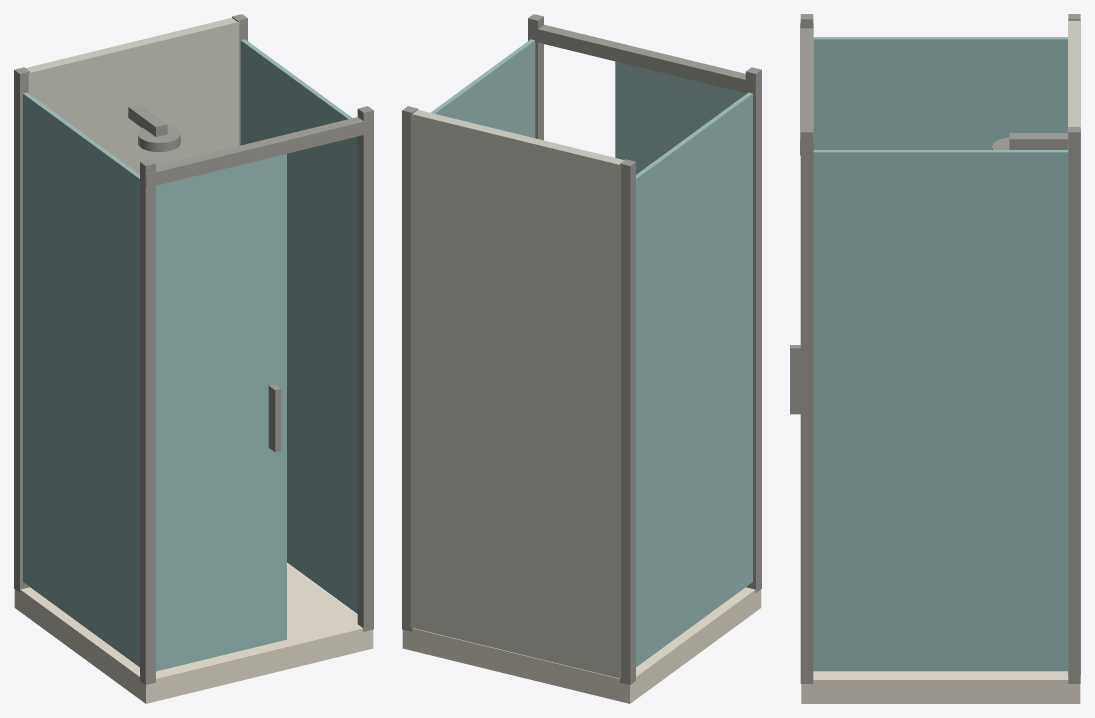
Rendered from shower_stall.glb.
The picture shows the model from 3 angles, left to right: view 1: azimuth 30°, elevation 25°; view 2: azimuth 150°, elevation 25°; view 3: azimuth 270°, elevation 25°; orthographic projection. The views are drawn at different scales.
Parts seen in each view (by area): view 1: Sliding glass, Side glazing, Side glazing.001, Rear panel, Shower tray, Frame upright.002, Frame upright, Frame upright.001, Top track, Pull.002, Shower head, Shower arm; view 2: Rear panel, Side glazing, Shower tray, Sliding glass, Frame upright.001, Side glazing.001, Frame upright, Frame upright.003, Top track, Frame upright.002; view 3: Side glazing.001, Side glazing, Shower tray, Frame upright.002, Frame upright.003, Rear panel, Top track, Shower arm, Pull.002.
Part boxes in pixels (x1,y1,x2,y2): Sliding glass: [156, 154, 286, 671]; Side glazing: [23, 92, 139, 667]; Side glazing.001: [240, 39, 357, 613]; Rear panel: [26, 17, 239, 586]; Shower tray: [14, 563, 373, 703]; Frame upright.002: [357, 106, 373, 631]; Frame upright: [140, 159, 155, 684]; Frame upright.001: [14, 67, 30, 592]; Top track: [146, 117, 373, 187]; Pull.002: [268, 384, 281, 452]; Shower head: [138, 126, 180, 151]; Shower arm: [128, 104, 167, 136]; Rear panel: [410, 110, 624, 678]; Side glazing: [636, 92, 752, 667]; Shower tray: [402, 587, 761, 703]; Sliding glass: [615, 61, 745, 174]; Frame upright.001: [620, 159, 635, 684]; Side glazing.001: [430, 39, 535, 138]; Frame upright: [745, 67, 761, 592]; Frame upright.003: [402, 106, 418, 631]; Top track: [528, 24, 755, 95]; Frame upright.002: [528, 14, 543, 140]; Side glazing.001: [813, 150, 1068, 671]; Side glazing: [813, 37, 1067, 149]; Shower tray: [801, 671, 1080, 703]; Frame upright.002: [800, 127, 813, 683]; Frame upright.003: [1068, 127, 1080, 683]; Rear panel: [1068, 20, 1080, 674]; Top track: [800, 23, 813, 155]; Shower arm: [1009, 133, 1067, 149]; Pull.002: [790, 345, 800, 414].
Size of the model in its own units: 0.934 by 2.11 by 0.9705.
